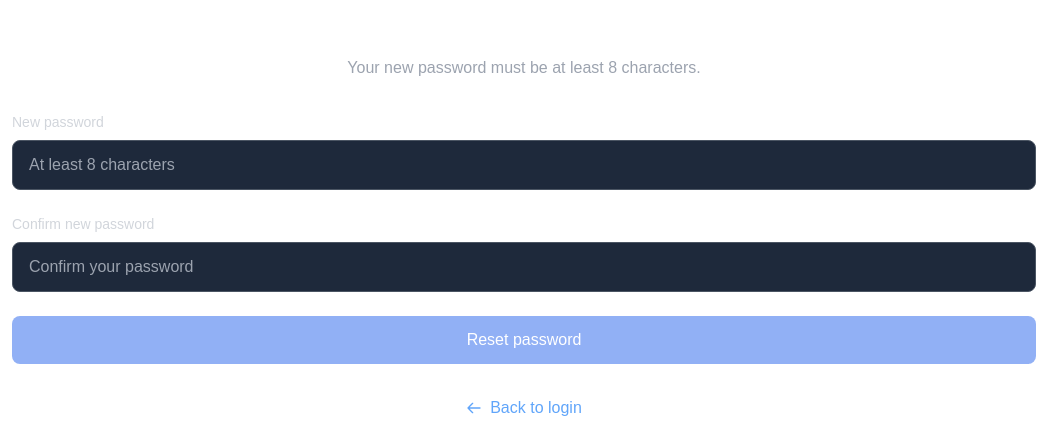
Scenario: ResetPasswordPage › AC4: Password Validation › enables submit button when password is valid and matches
This screenshot has width=1048, height=433.
In the password field labelled "New password": (524, 165) [12, 140, 1036, 190], type "validpassword123"
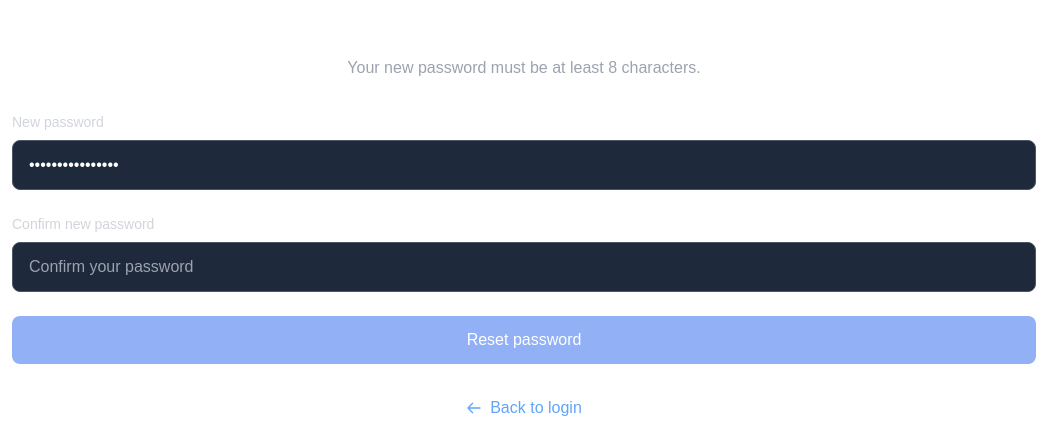
In the password field labelled "Confirm new password": (524, 267) [12, 242, 1036, 292], type "validpassword123"
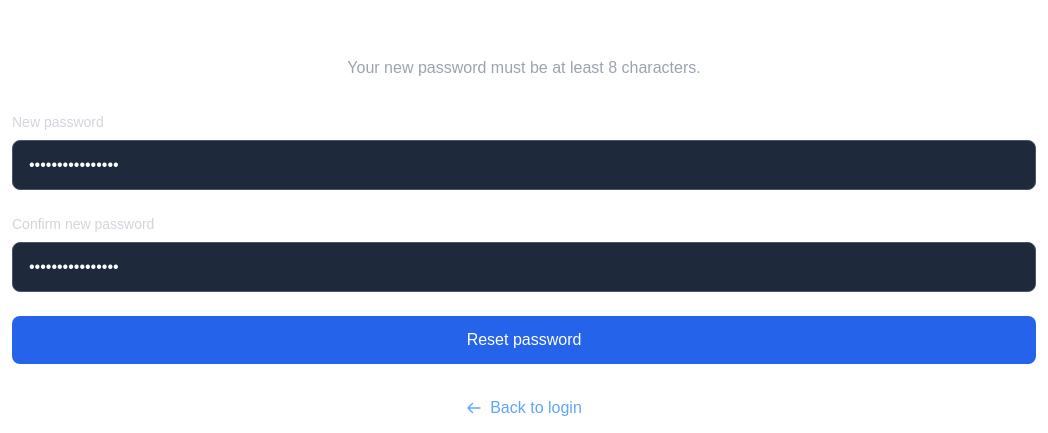
Result: the button "Reset password" is enabled at [12, 316, 1036, 364]
